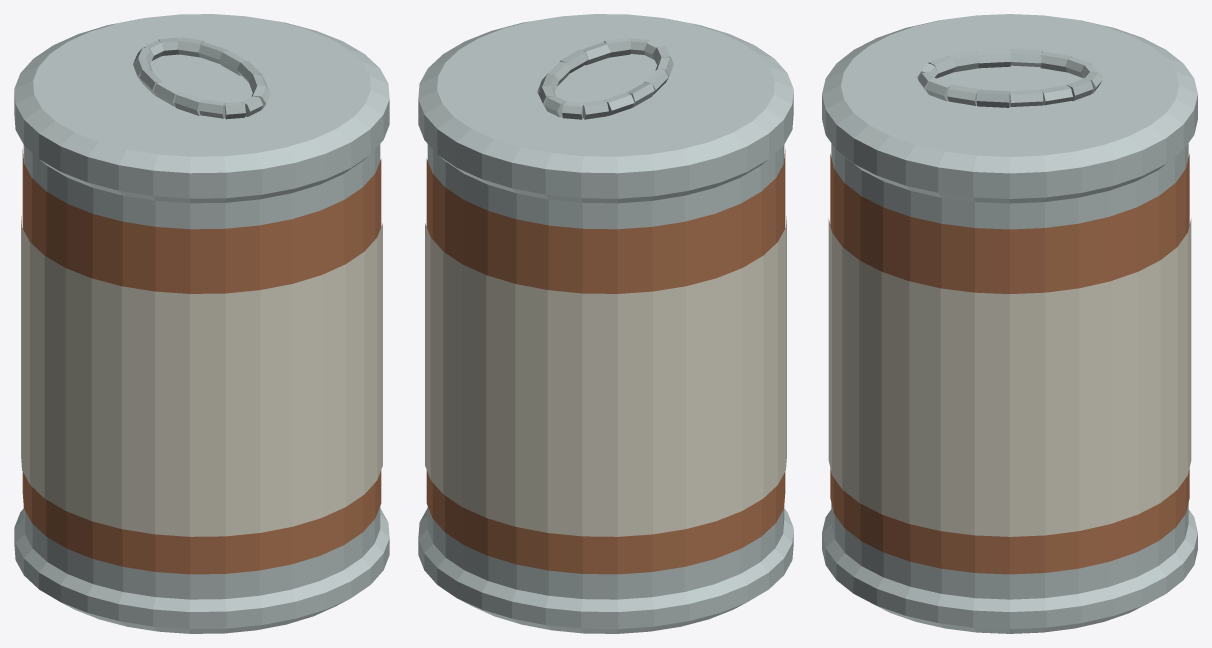
Rendered from ration-can.glb.
3 views of the same model, side by side, from view 1: azimuth 30°, elevation 25°; view 2: azimuth 150°, elevation 25°; view 3: azimuth 270°, elevation 25° (orthographic).
Visible parts, largest first — view 1: ration-can; view 2: ration-can; view 3: ration-can.
Boxes of the visible parts, x1,y1,x2,y2 form: ration-can: [14, 14, 389, 633]; ration-can: [418, 14, 793, 633]; ration-can: [822, 14, 1197, 633].
Bounding box in the file's own units: 0.4 × 0.5766 × 0.4.
